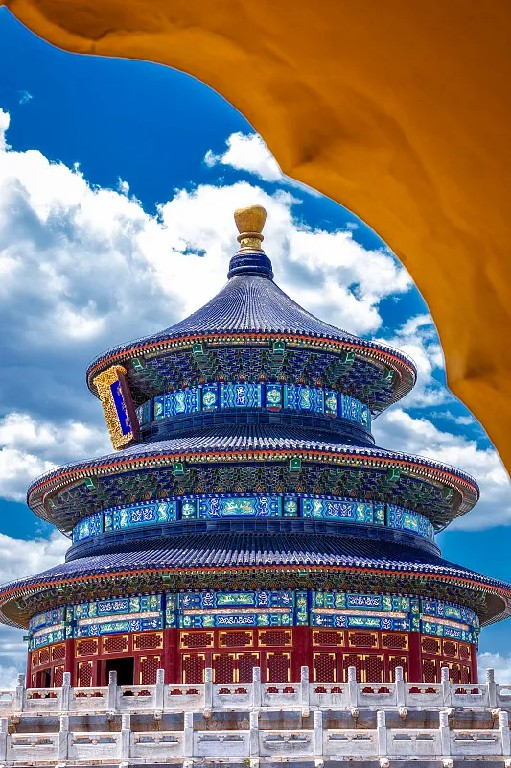Heaven: (1, 207, 511, 701)
